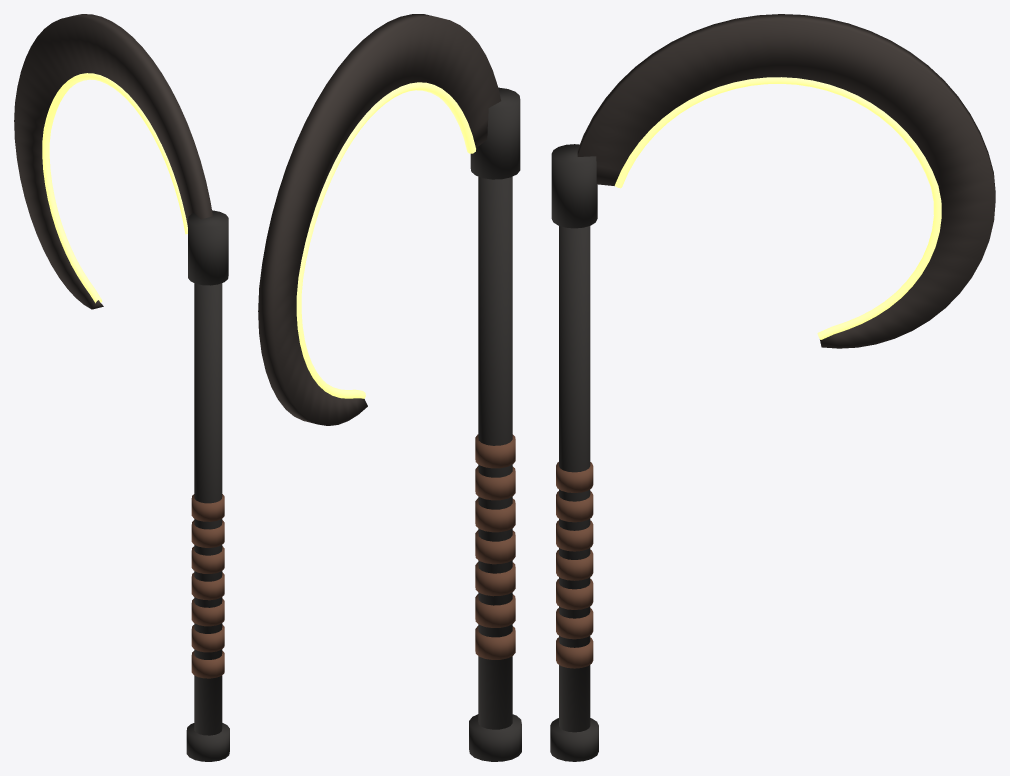
Rendered from HellEmber_CloneScythe.fbx.
The picture shows the model from 3 angles, left to right: view 1: azimuth 30°, elevation 25°; view 2: azimuth 150°, elevation 25°; view 3: azimuth 270°, elevation 25°; orthographic projection. The views are drawn at different scales.
Visible parts, largest first — view 1: HellEmber_CloneScythe_Weapon; view 2: HellEmber_CloneScythe_Weapon; view 3: HellEmber_CloneScythe_Weapon.
Part boxes in pixels (x1,y1,x2,y2): HellEmber_CloneScythe_Weapon: (14,14,229,761); HellEmber_CloneScythe_Weapon: (258,14,521,761); HellEmber_CloneScythe_Weapon: (550,14,995,761).
Bounding box in the file's own units: 6.8 × 113 × 62.13.
